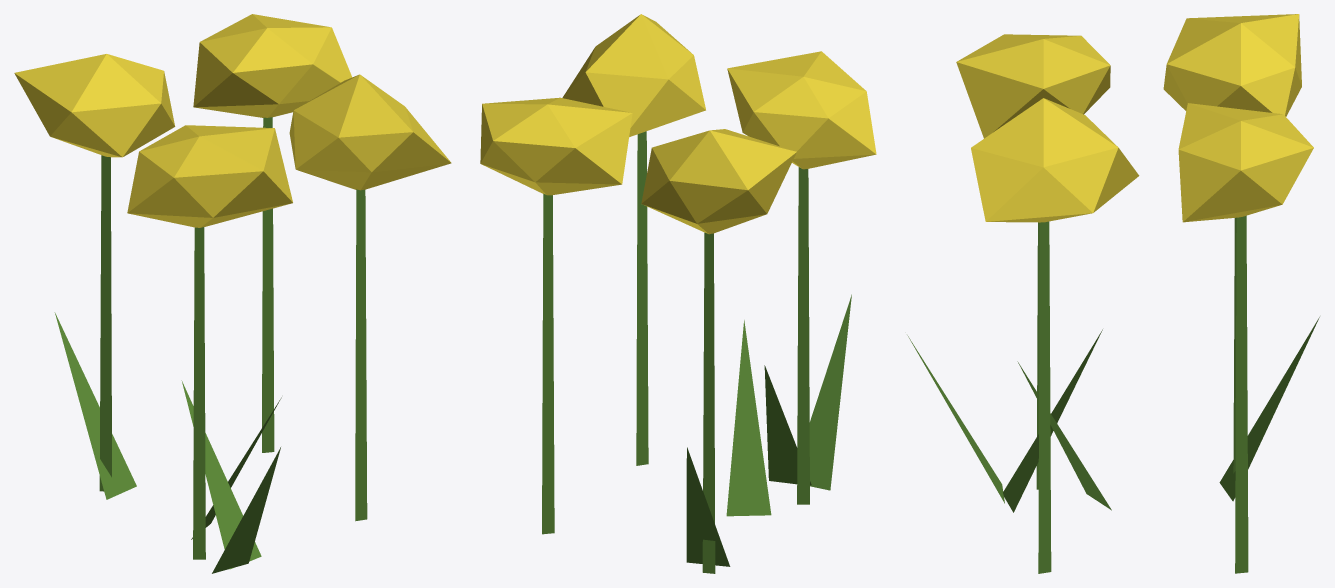
Rendered from colza.glb.
3 renders of one model, left to right at view 1: azimuth 30°, elevation 25°; view 2: azimuth 150°, elevation 25°; view 3: azimuth 270°, elevation 25°, orthographic. The views are drawn at different scales.
Visible parts, largest first — view 1: colza; view 2: colza; view 3: colza.
Part boxes in pixels (x1,y1,x2,y2): colza: [14, 14, 451, 573]; colza: [480, 14, 876, 573]; colza: [907, 14, 1319, 573].
Bounding box in the file's own units: 0.9281 × 1.32 × 1.05.
1 material, 1 textured.
